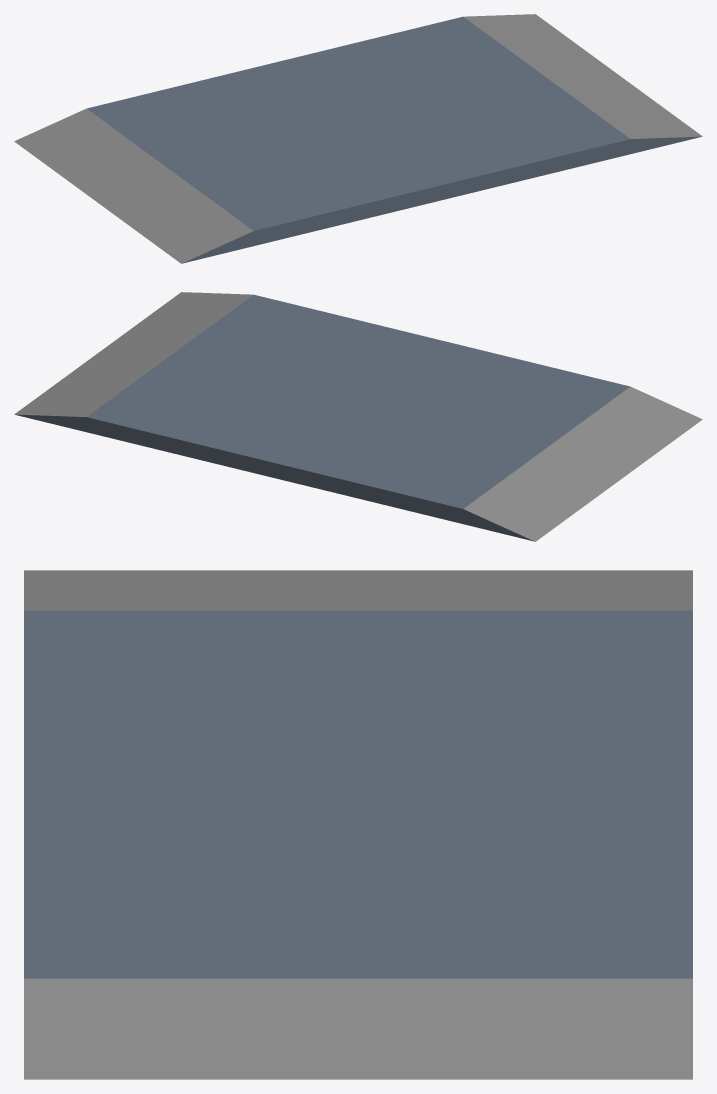
The model's file is SM_Driveway_Short.fbx.
3 views of the same model, one above another, from view 1: azimuth 30°, elevation 25°; view 2: azimuth 150°, elevation 25°; view 3: azimuth 270°, elevation 25° (orthographic). The views are drawn at different scales.
Visible parts, largest first — view 1: SM_Driveway_Short; view 2: SM_Driveway_Short; view 3: SM_Driveway_Short.
Boxes of the visible parts, x1=… form: SM_Driveway_Short: x1=14, y1=14, x2=702, y2=263; SM_Driveway_Short: x1=14, y1=292, x2=702, y2=541; SM_Driveway_Short: x1=24, y1=570, x2=692, y2=1079.
Size of the model in its own units: 259 by 7.2 by 144.
